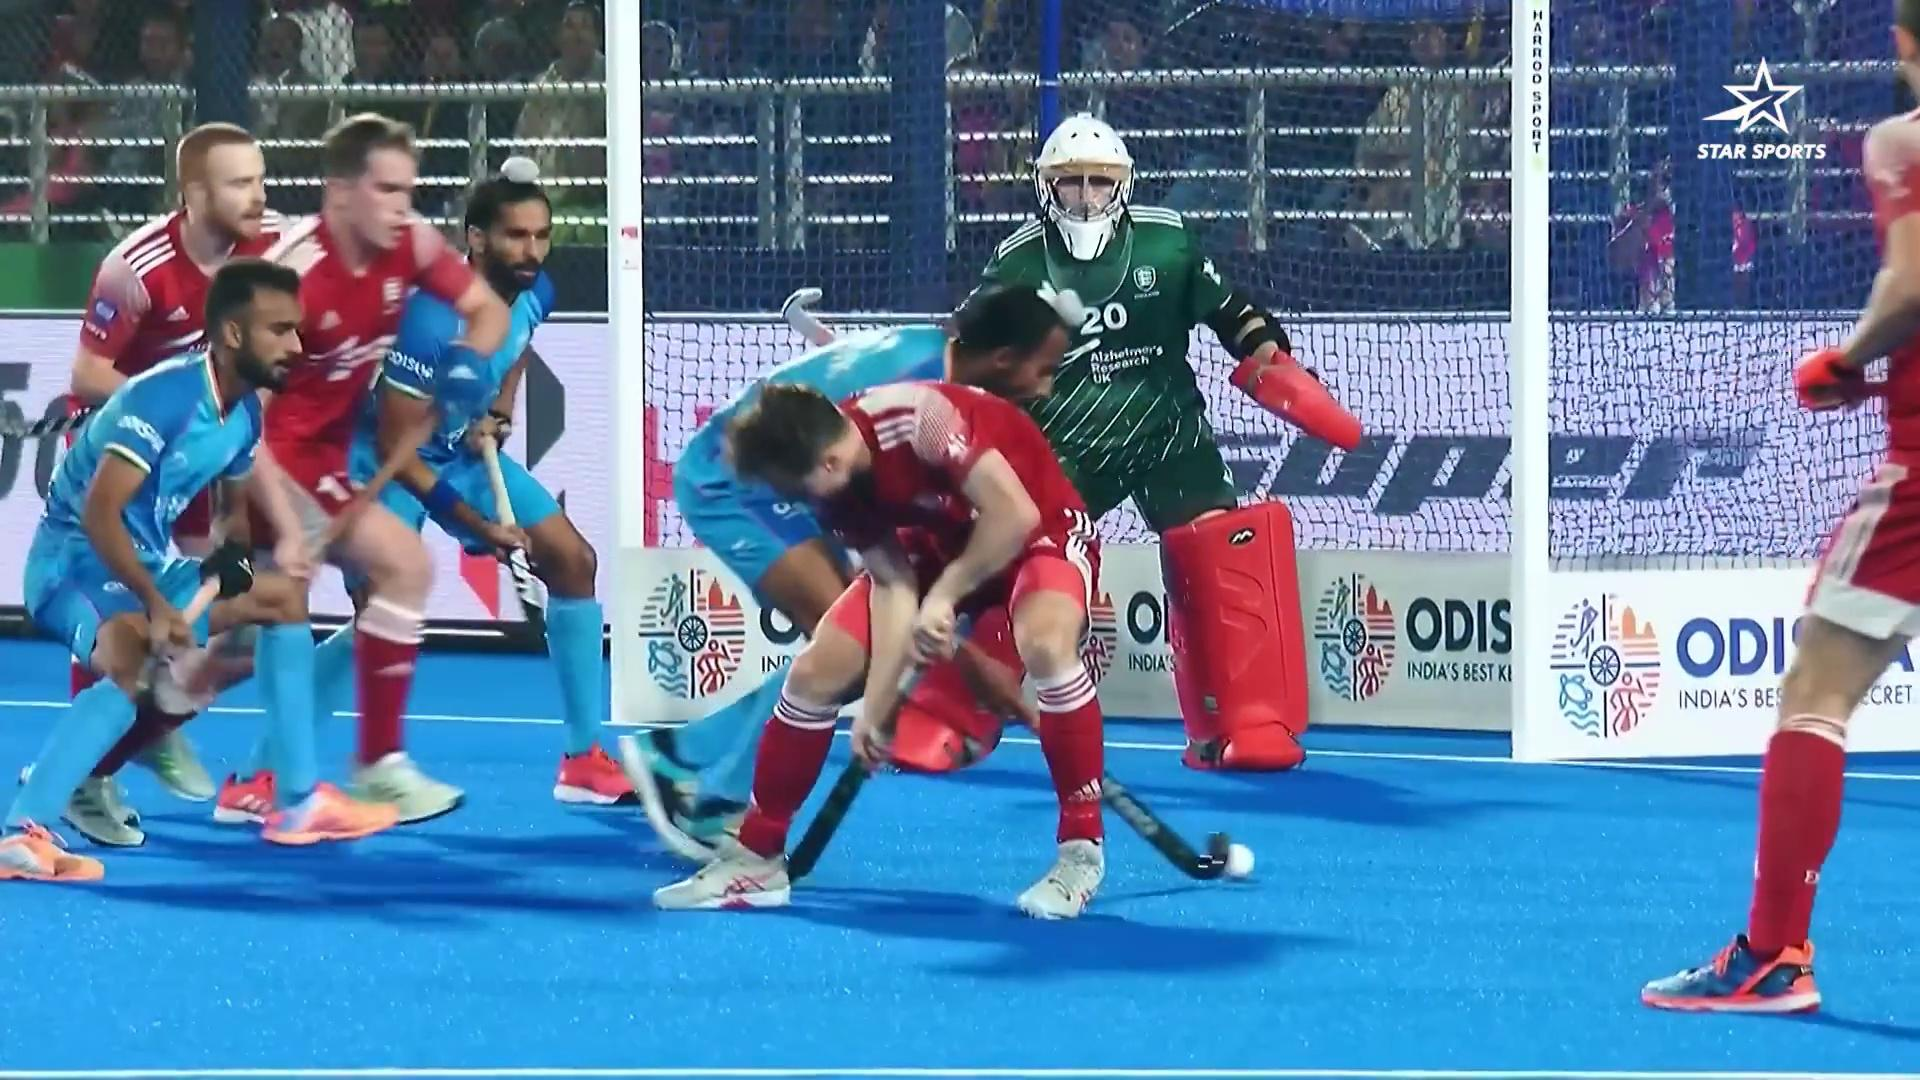ball: (1211, 832, 1271, 905)
